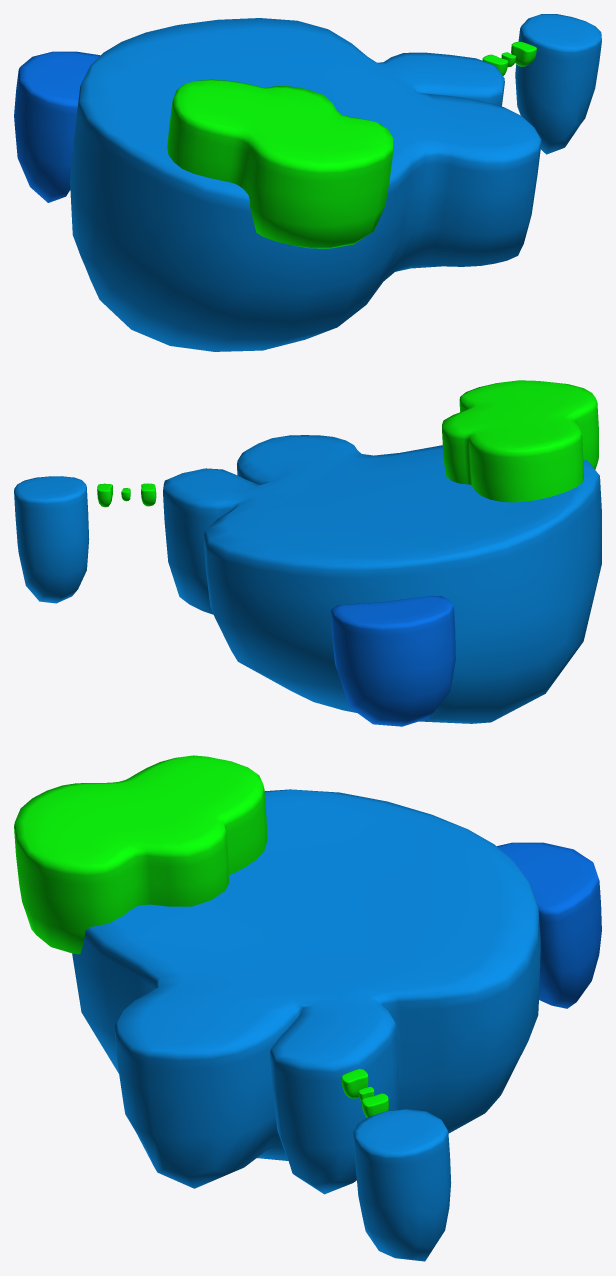
Rendered from Island.fbx.
3 views of the same model, one above another, from view 1: azimuth 30°, elevation 25°; view 2: azimuth 150°, elevation 25°; view 3: azimuth 270°, elevation 25° (orthographic). The views are drawn at different scales.
Parts seen in each view (by area): view 1: Plane, Plane.003, Plane.004, Plane.005, Plane.006; view 2: Plane, Plane.003, Plane.005, Plane.004; view 3: Plane, Plane.003, Plane.004, Plane.005.
Boxes of the visible parts, bbox=[...] form: Plane: bbox=[70, 18, 541, 351]; Plane.003: bbox=[167, 79, 393, 248]; Plane.004: bbox=[515, 14, 601, 154]; Plane.005: bbox=[14, 51, 100, 202]; Plane.006: bbox=[511, 41, 536, 66]; Plane: bbox=[163, 435, 601, 723]; Plane.003: bbox=[442, 380, 598, 502]; Plane.005: bbox=[330, 596, 455, 726]; Plane.004: bbox=[14, 476, 89, 603]; Plane: bbox=[72, 789, 540, 1194]; Plane.003: bbox=[14, 755, 267, 954]; Plane.004: bbox=[353, 1109, 451, 1261]; Plane.005: bbox=[497, 842, 601, 1008].
Size of the model in its own units: 698 by 340 by 573.
